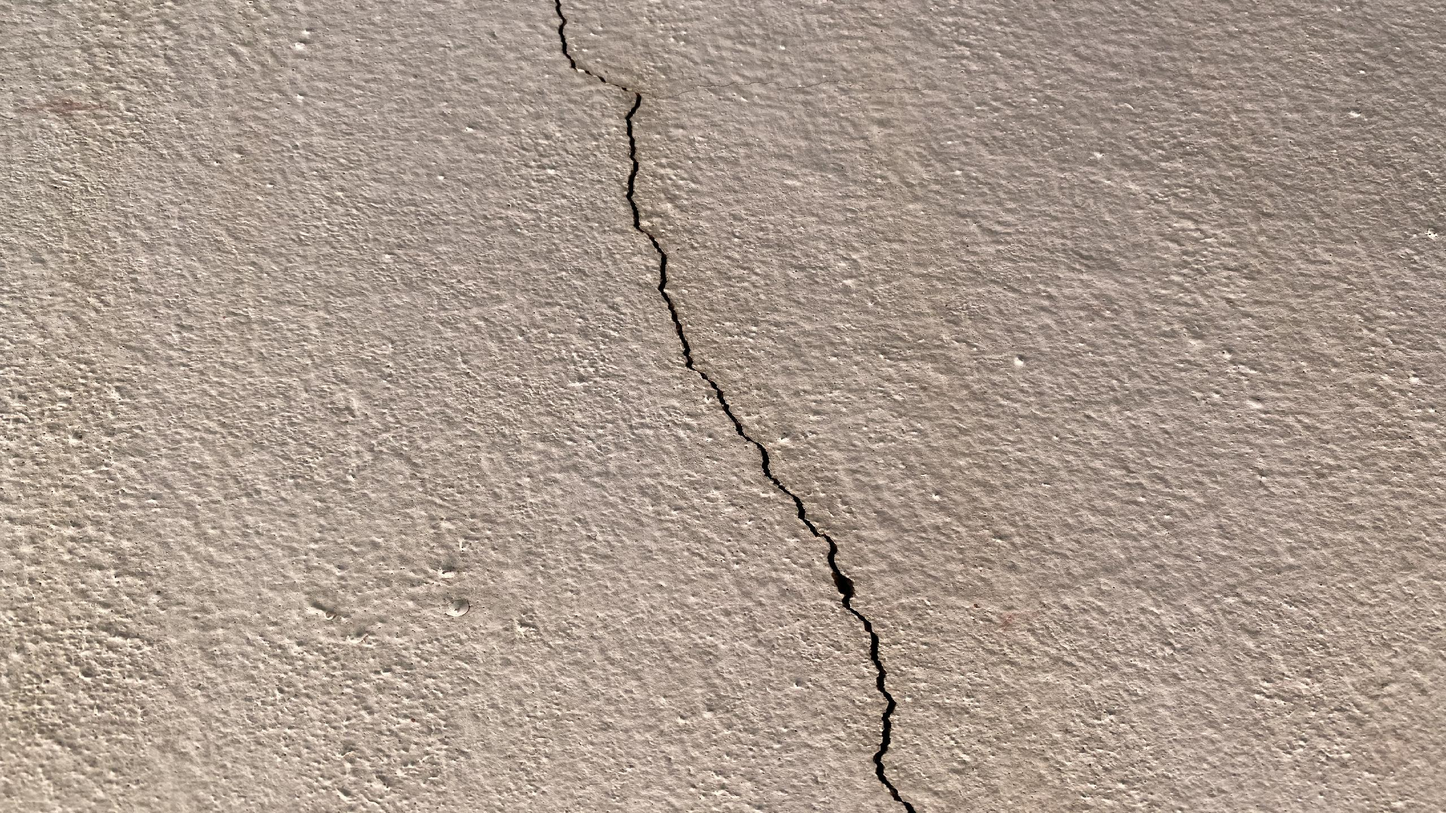crack: (524, 3, 925, 802)
